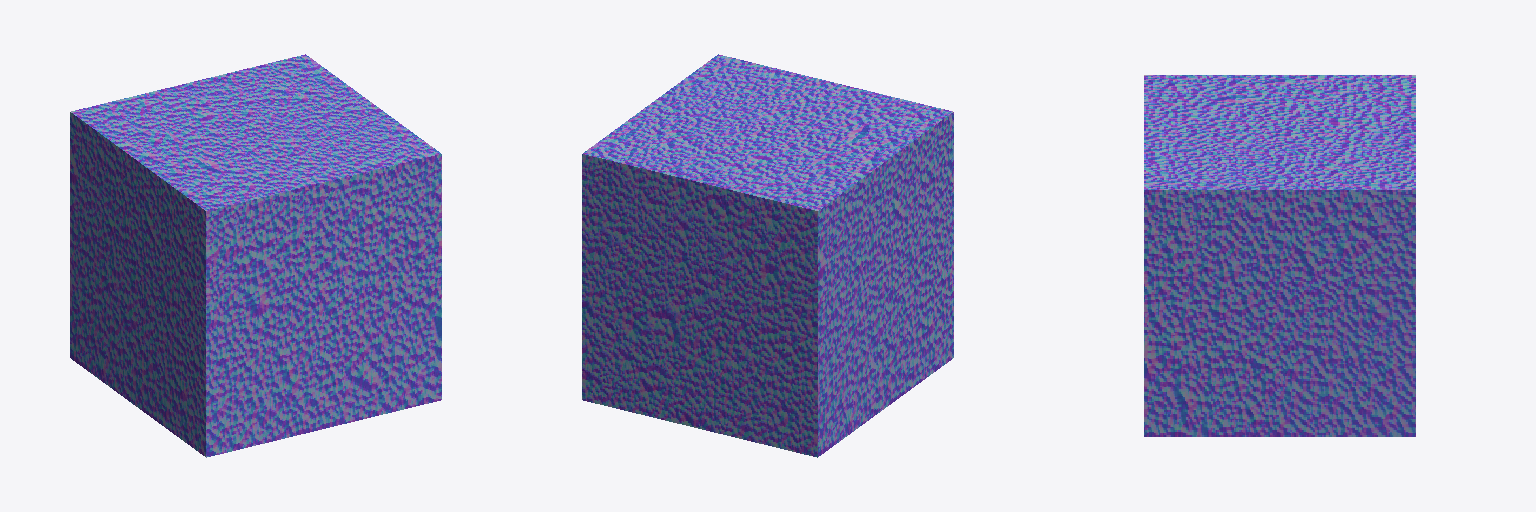
3 renders of one model, left to right at view 1: azimuth 30°, elevation 25°; view 2: azimuth 150°, elevation 25°; view 3: azimuth 270°, elevation 25°, orthographic.
Visible parts, largest first — view 1: Cube:pCube group; view 2: Cube:pCube group; view 3: Cube:pCube group.
Boxes of the visible parts, box(x1,y1,x2,y2) form: Cube:pCube group: box(70, 54, 441, 457); Cube:pCube group: box(582, 54, 953, 457); Cube:pCube group: box(1144, 75, 1415, 436).
Bounding box in the file's own units: 1 × 1 × 1.
1 materials, 1 textured.